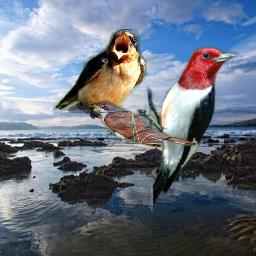Cuckoo: (87, 98, 199, 152)
Swallow: (53, 29, 147, 119)
Woodpecker: (135, 47, 240, 213)
